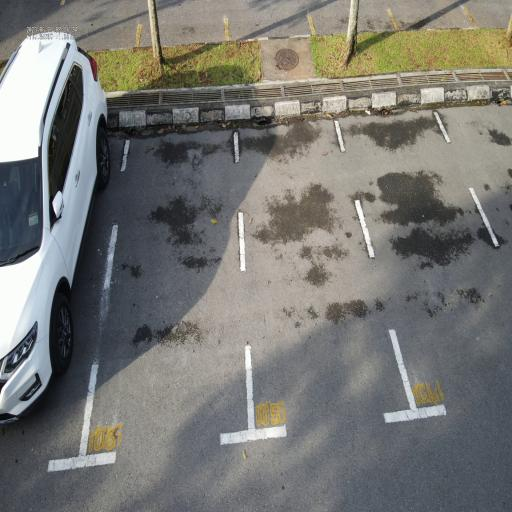Empty: (74, 112, 258, 477), (231, 111, 426, 446)
